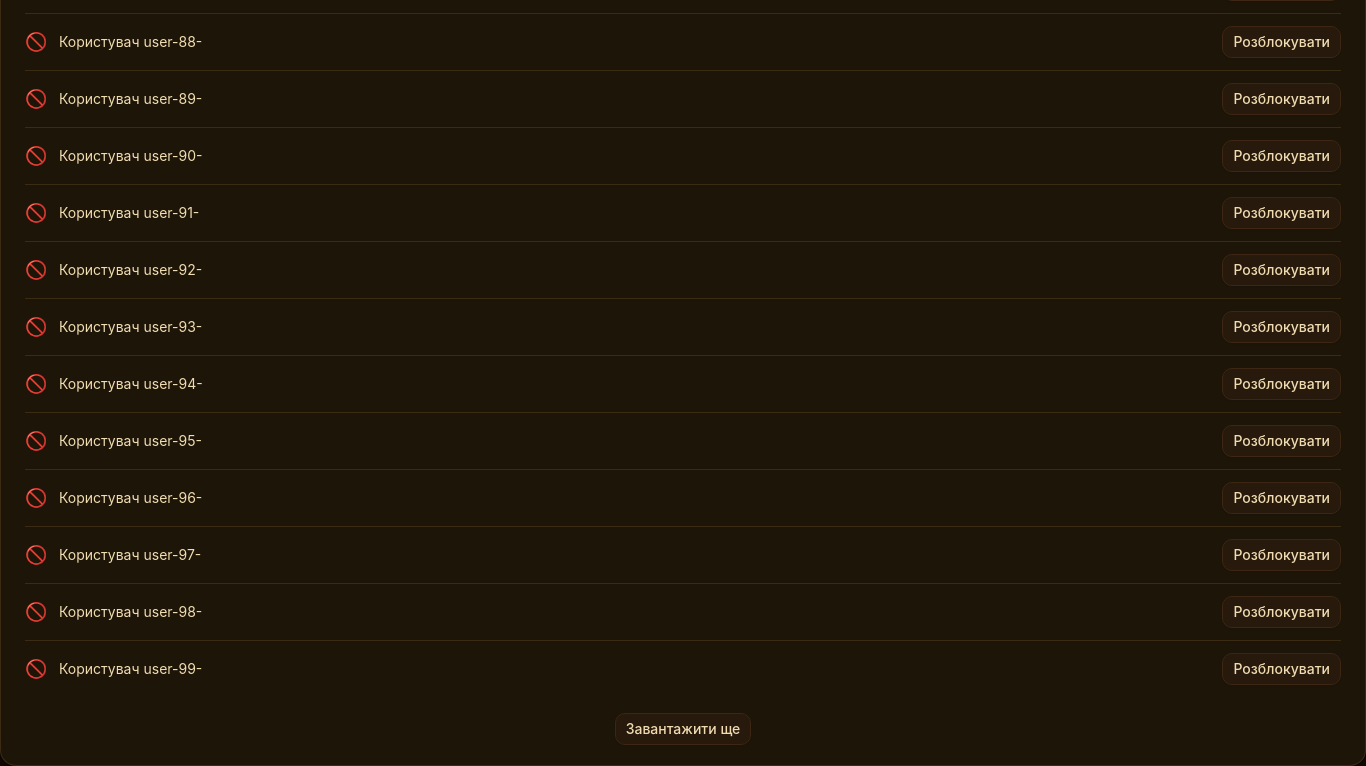
Test: Bans › loads the bans a page at a time and shows the full count
(page scrolled)
Click the button "Завантажити ще" at (683, 729), box [615, 713, 751, 745]
(page scrolled)
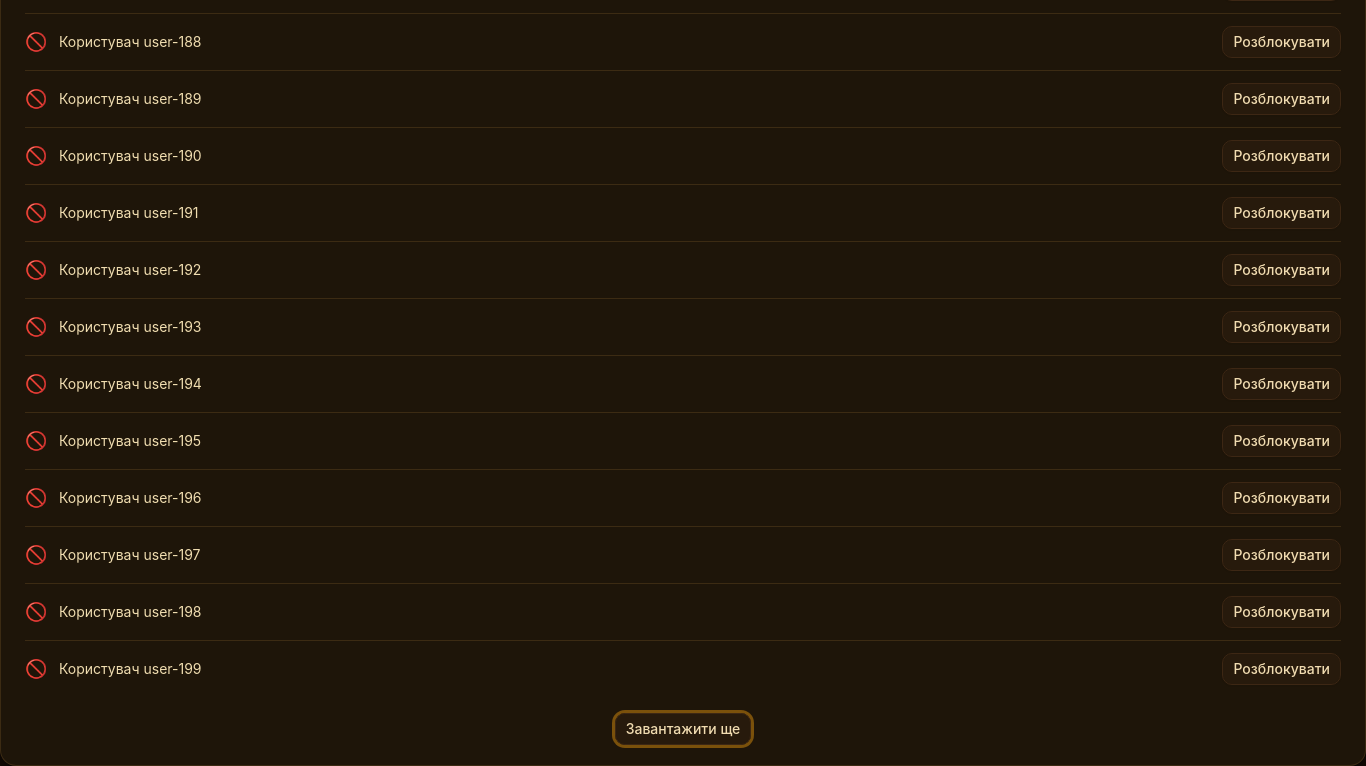
Click the button "Завантажити ще" at (683, 729), box [615, 713, 751, 745]
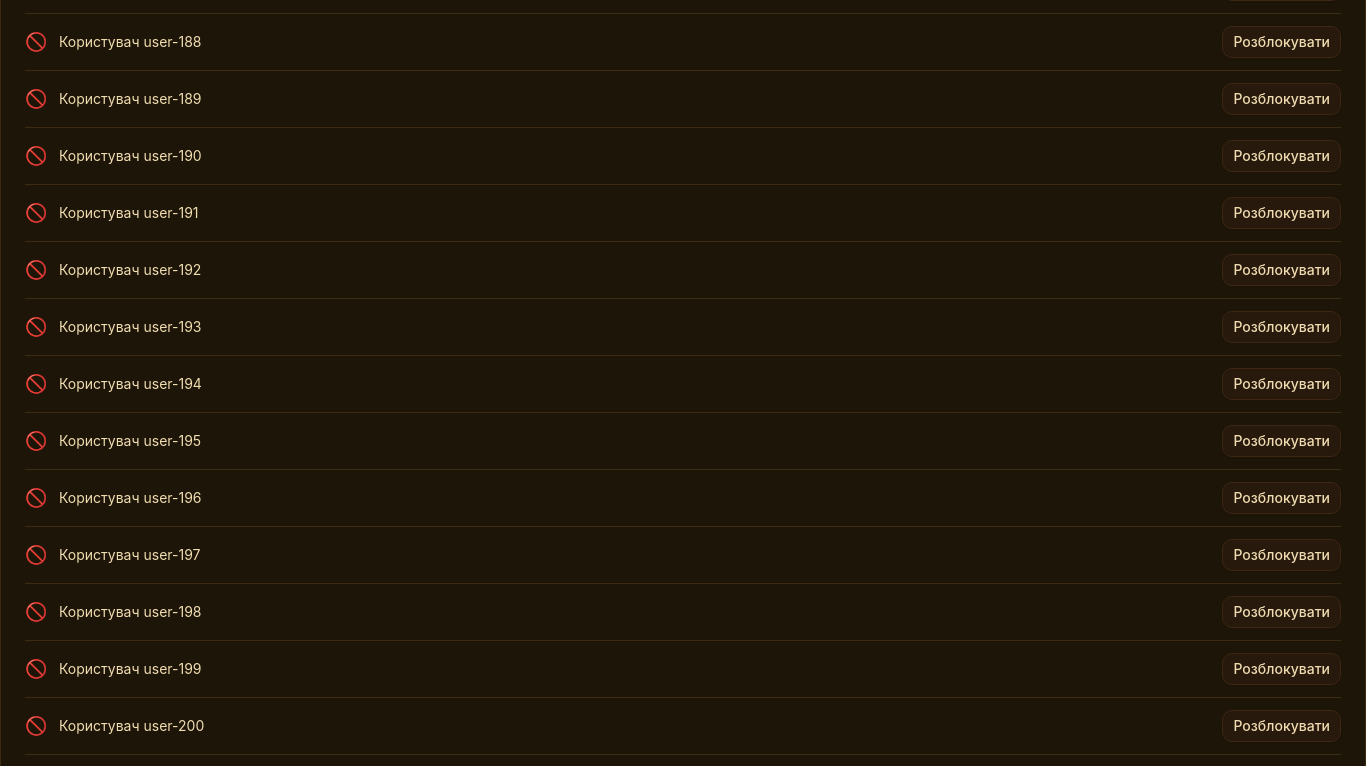
expect the button "Завантажити ще" is gone: met
